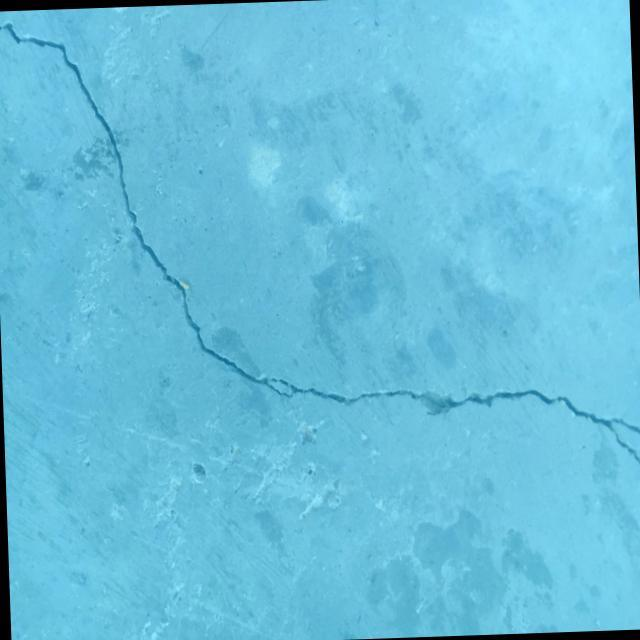crack: (0, 1, 640, 490)
